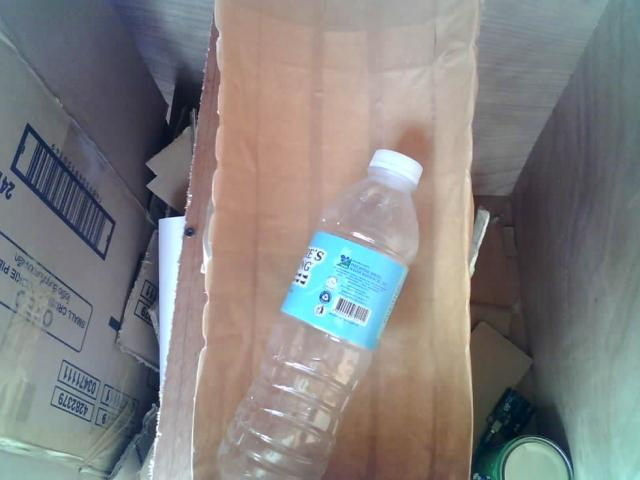small_bottle: (202, 128, 451, 479)
